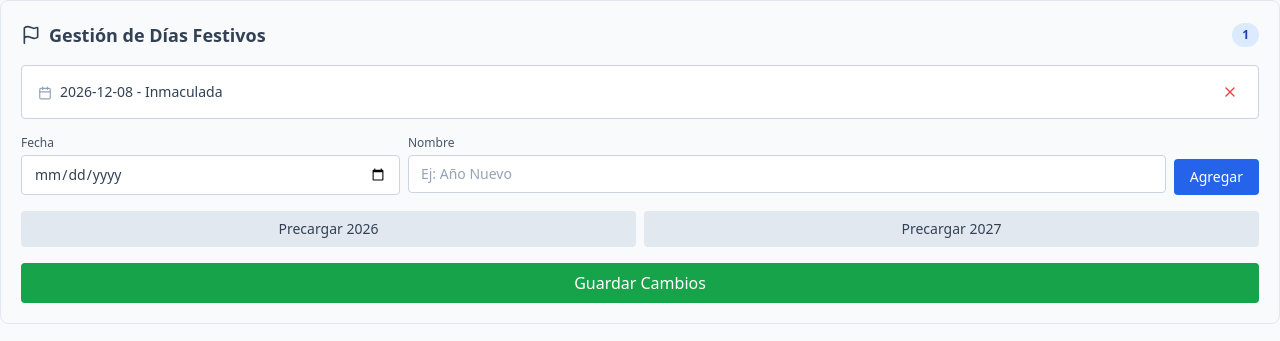
Test: HolidayManager › removes a holiday from the list
Expected: the text "2026-12-08 - Inmaculada" is shown, [38, 82, 222, 102]
Click the button named "Eliminar" at (1230, 92), box [1218, 80, 1242, 104]
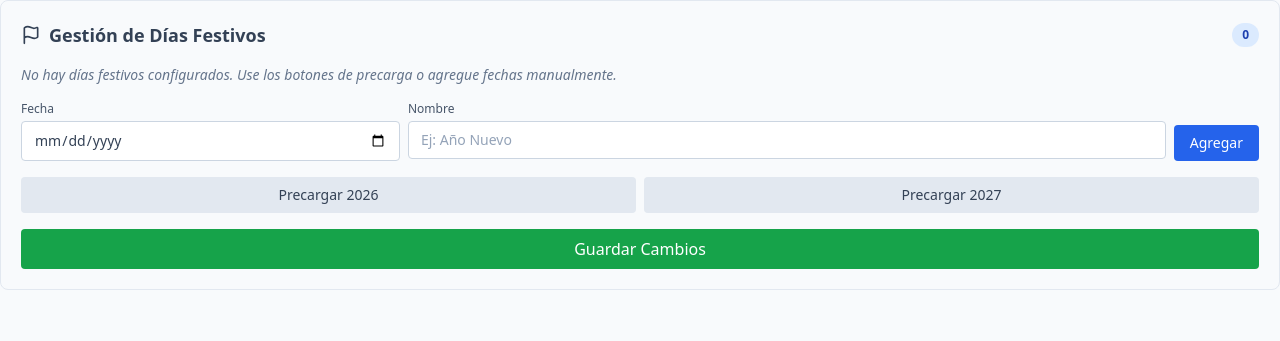
Expected: the text "0" is shown, [1232, 23, 1259, 47]
Expected: the text "2026-12-08 - Inmaculada" is gone
